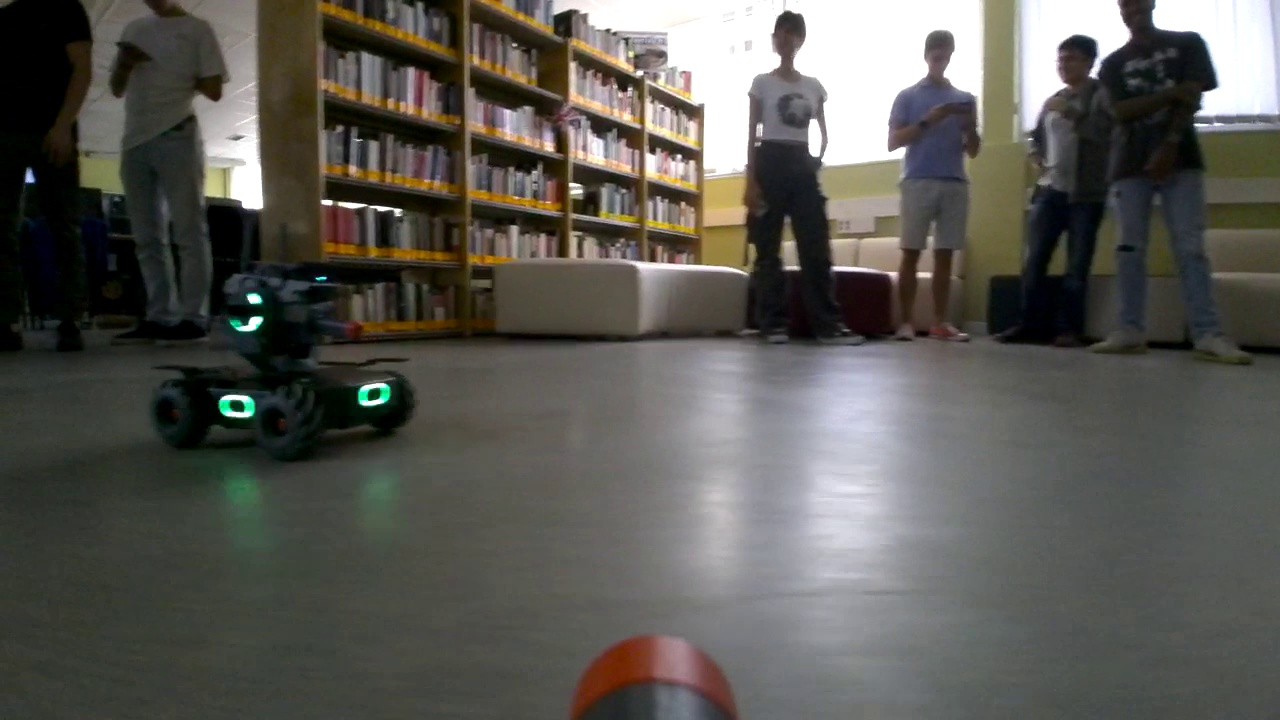robot: (146, 261, 418, 460)
